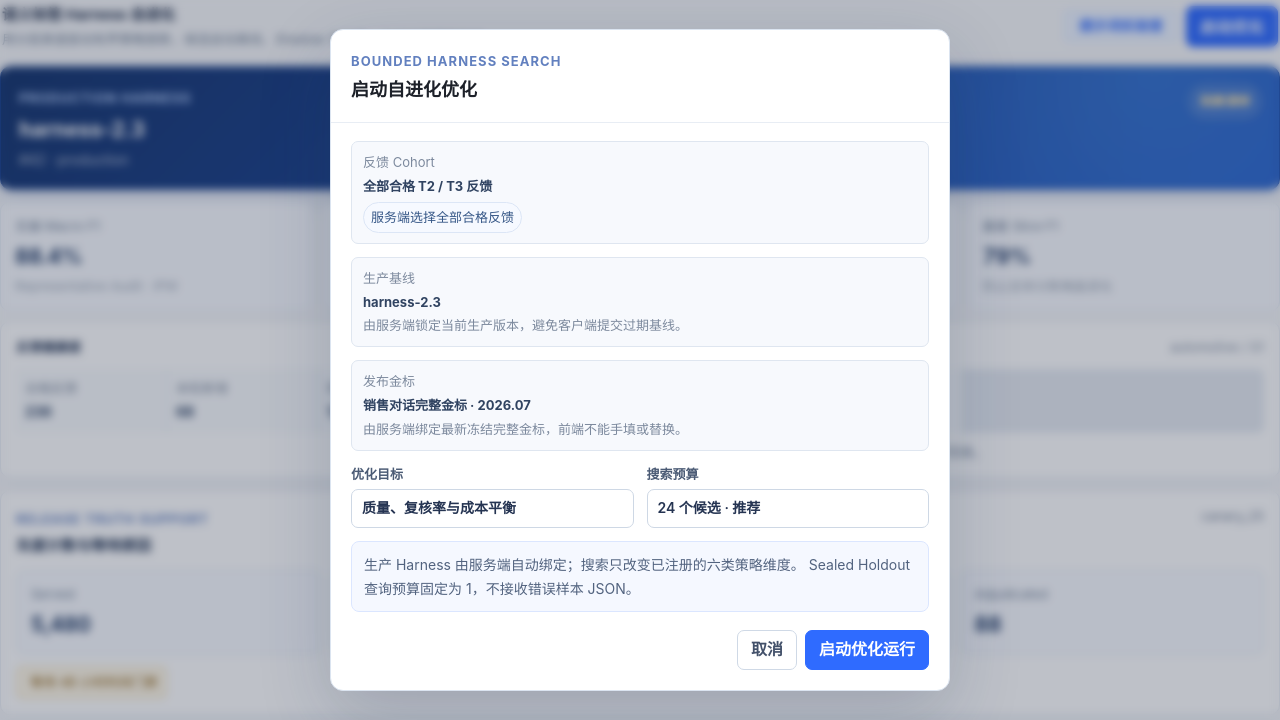
Test: EvolutionPanel › shows create failures inside the optimizer dialog and can retry there
Click the button "启动优化运行" at (867, 650), box [805, 630, 929, 670]
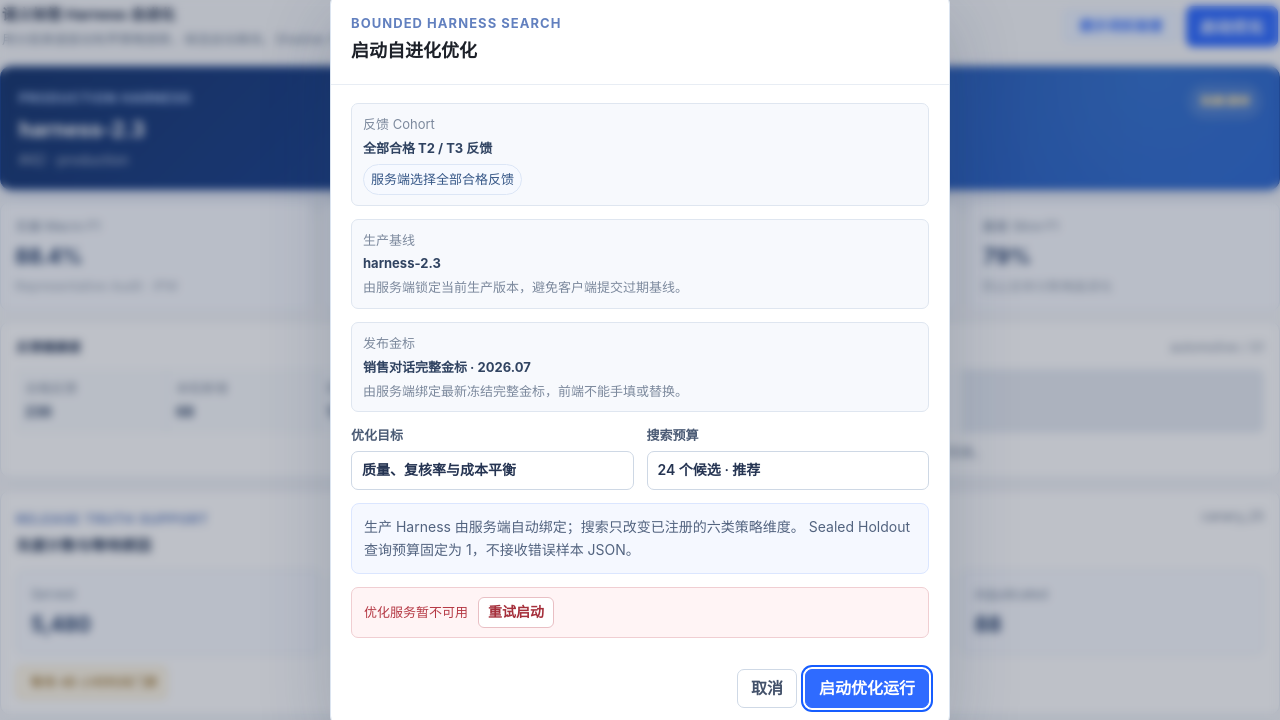
Result: the message shows "优化服务暂不可用" at [364, 604, 468, 620]
Click the button "重试启动" at (516, 612), box [478, 597, 554, 628]
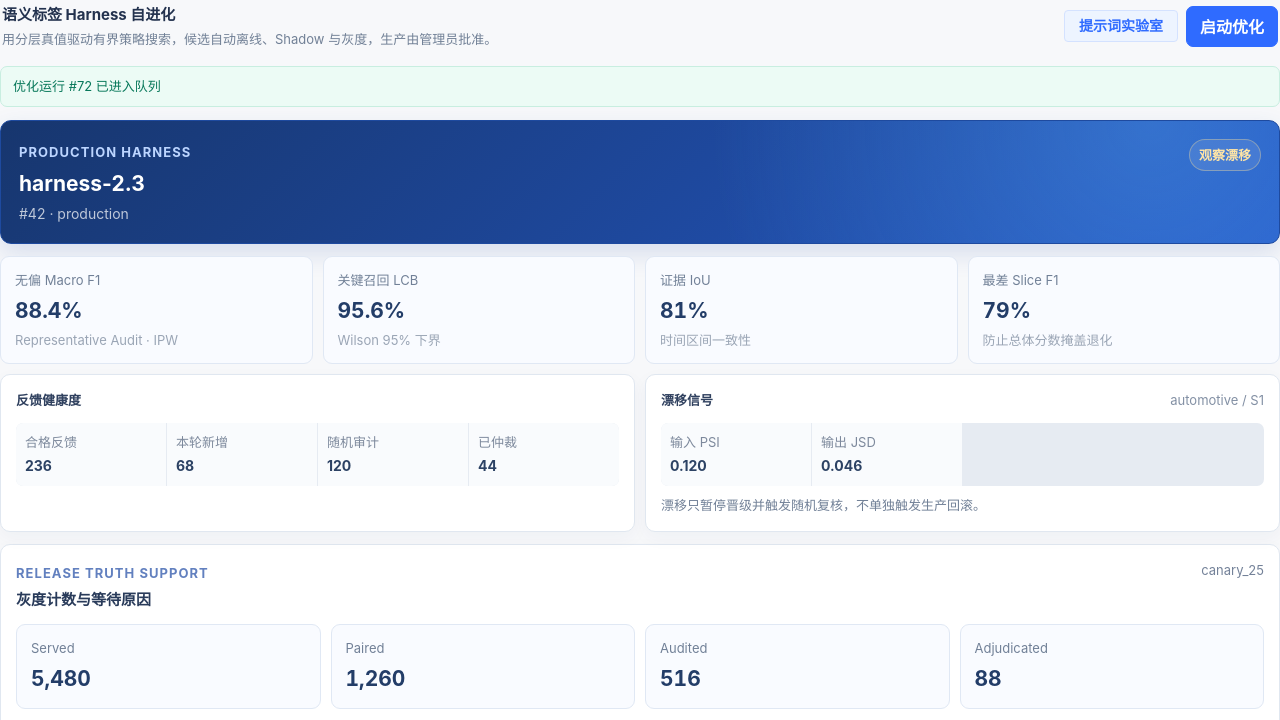
Result: the text "优化运行 #72 已进入队列" is shown at [0, 66, 1279, 107]
